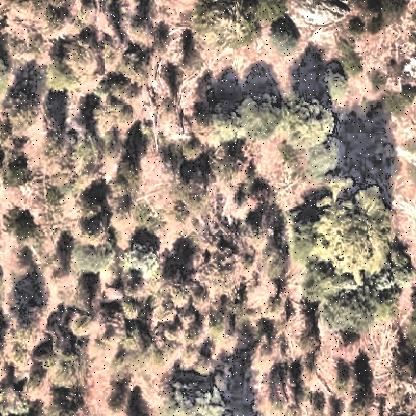tree-top: (307, 181, 406, 279), (317, 283, 394, 337), (182, 1, 261, 51), (162, 365, 232, 416), (276, 93, 334, 153), (228, 91, 285, 148), (43, 344, 101, 393), (68, 232, 121, 276), (168, 151, 216, 199), (39, 51, 85, 97), (120, 237, 168, 281), (72, 133, 115, 178), (253, 241, 297, 283), (1, 89, 39, 128), (264, 21, 302, 59), (115, 44, 155, 80), (109, 150, 145, 188), (305, 145, 340, 181), (6, 208, 40, 244), (321, 67, 350, 103), (1, 152, 30, 188), (387, 348, 416, 384), (381, 90, 412, 118)
